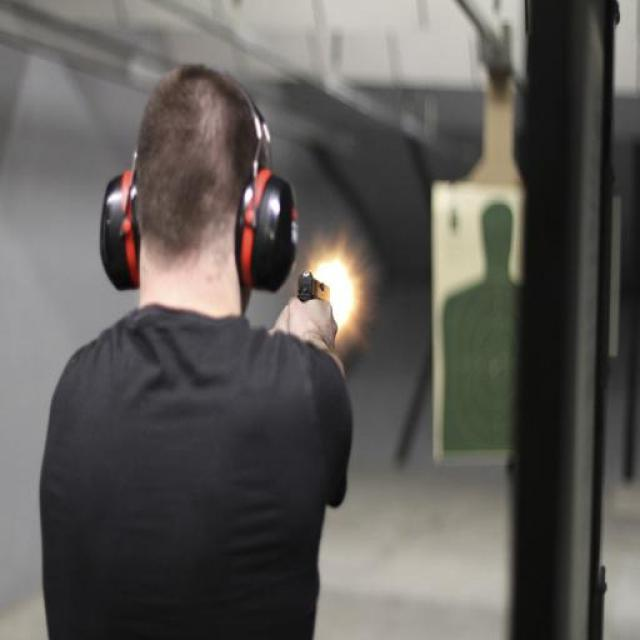pistol: (290, 269, 336, 333)
